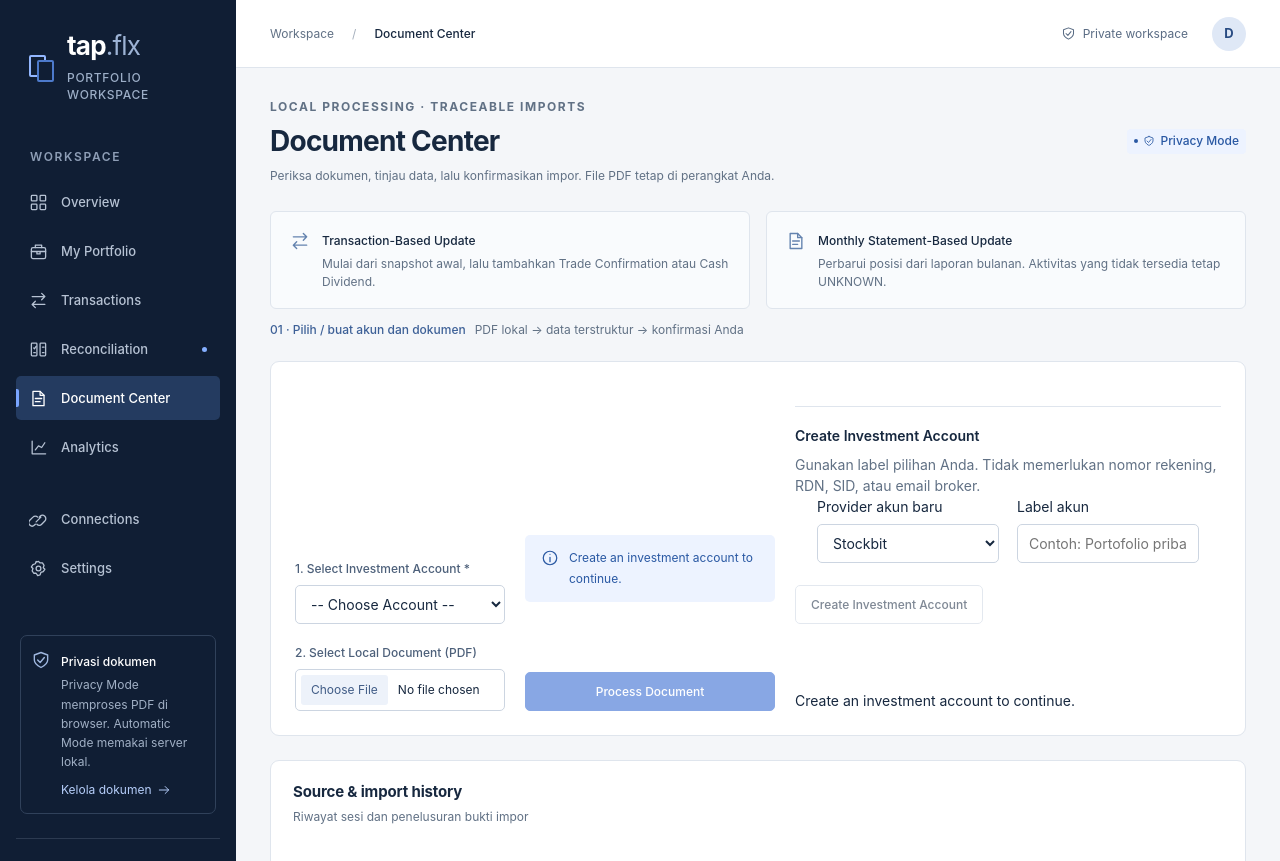
Test: keeps the existing document URL working and exposes all eight navigation destinations
This screenshot has width=1280, height=861.
Check: the heading "Document Center" is shown, box [270,124,500,158]
Step 1. Click the link "Analytics" → (74, 447), box [29,438,119,457]
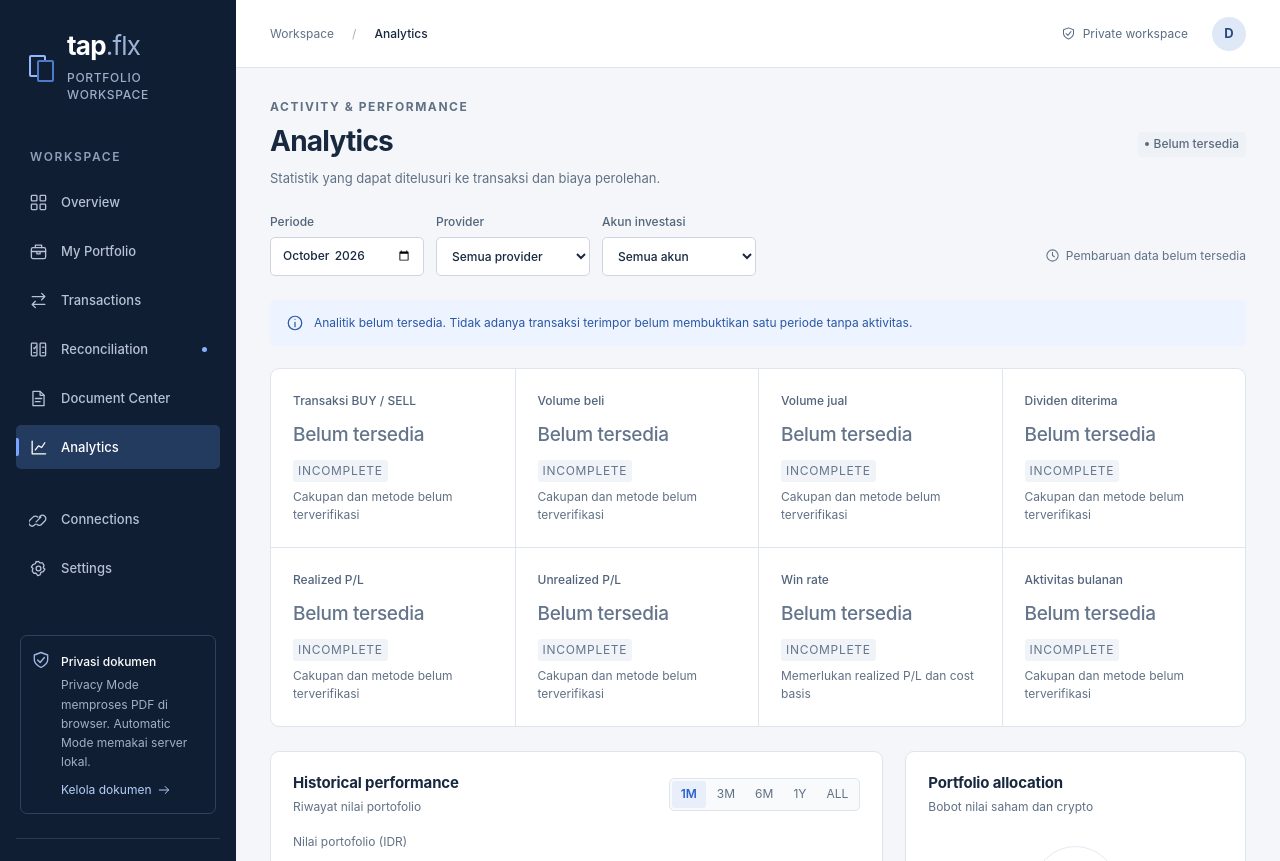
Check: the heading "Analytics" is shown, box [270,124,393,158]
Check: the text "INCOMPLETE" is shown 8 times
